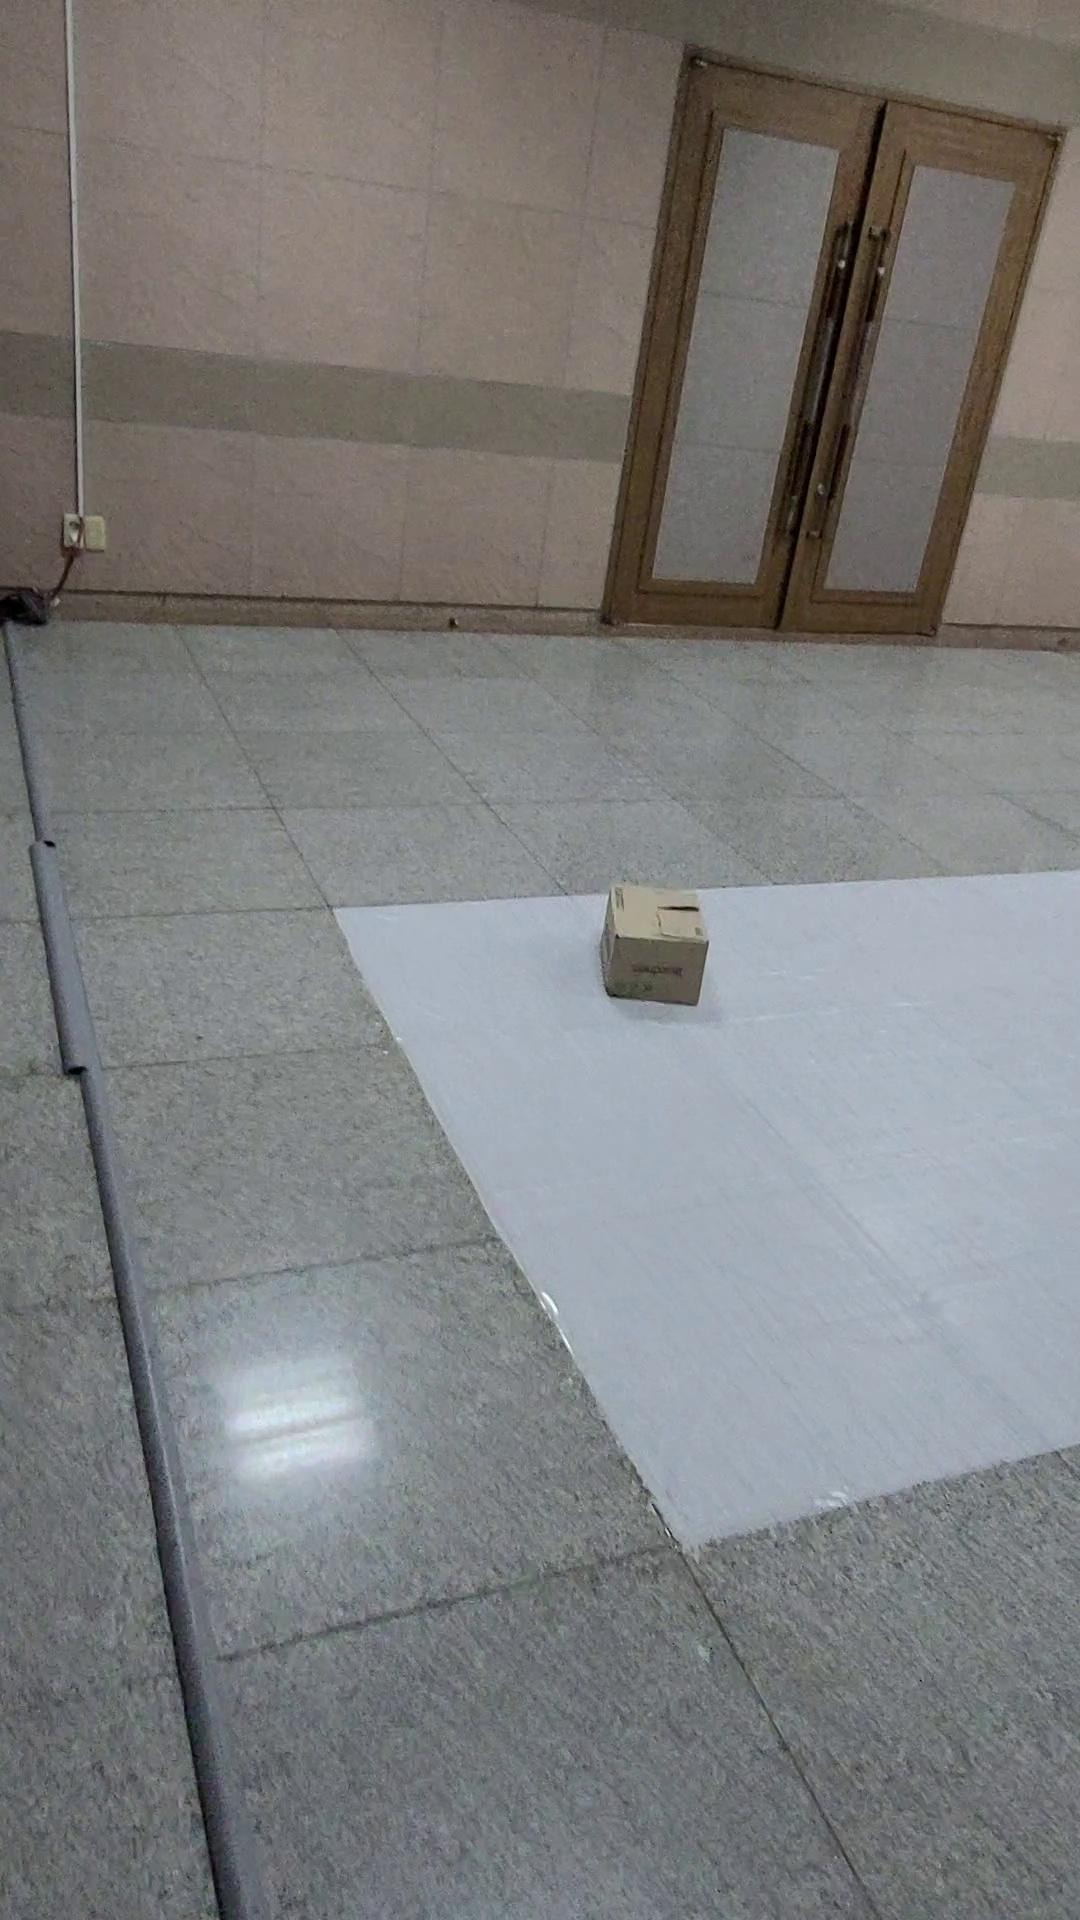Box: (541, 855, 757, 1047)
